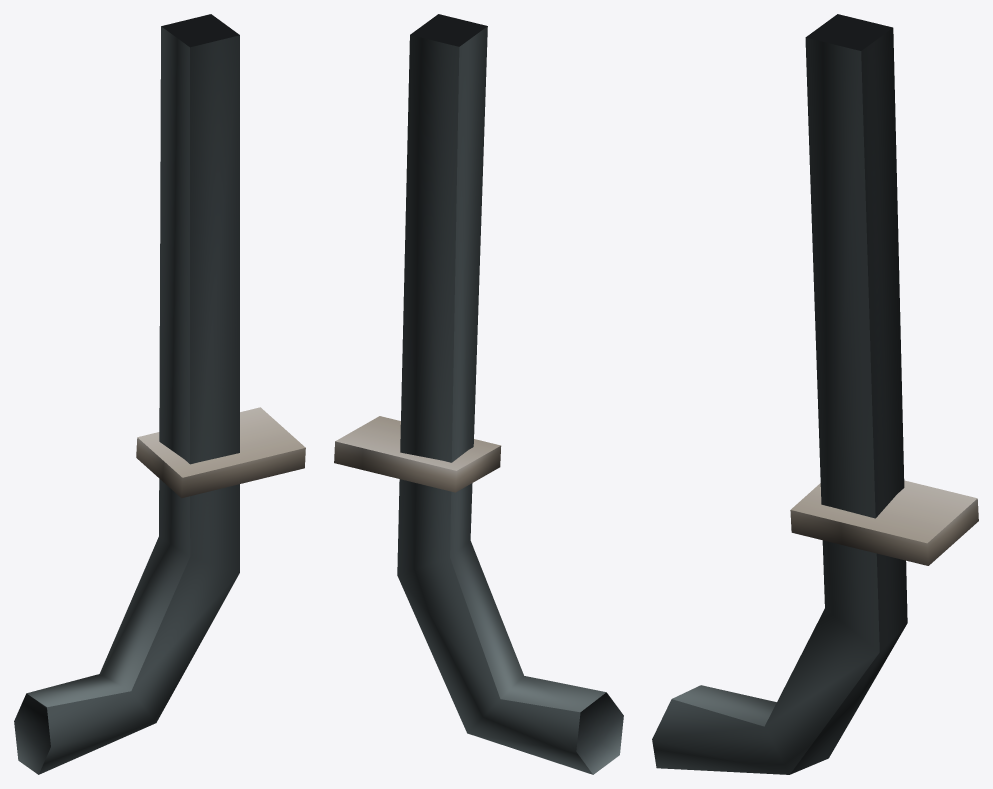
The model's file is TSP_Rain_Spout_01A_End.fbx.
The picture shows the model from 3 angles, left to right: view 1: azimuth 30°, elevation 25°; view 2: azimuth 150°, elevation 25°; view 3: azimuth 330°, elevation 25°; orthographic projection. The views are drawn at different scales.
Visible parts, largest first — view 1: TSP_Rain_Spout_01A_End; view 2: TSP_Rain_Spout_01A_End; view 3: TSP_Rain_Spout_01A_End.
Boxes of the visible parts, left/top/right/bottom form: TSP_Rain_Spout_01A_End: left=14, top=14, right=305, bottom=774; TSP_Rain_Spout_01A_End: left=334, top=14, right=623, bottom=774; TSP_Rain_Spout_01A_End: left=652, top=14, right=978, bottom=774.
Size of the model in its own units: 1.02 by 2.68 by 0.3205.
